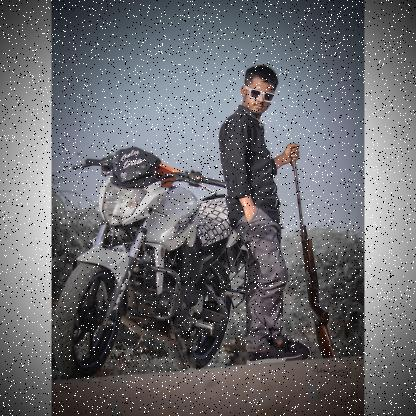rifle: (290, 147, 336, 359)
